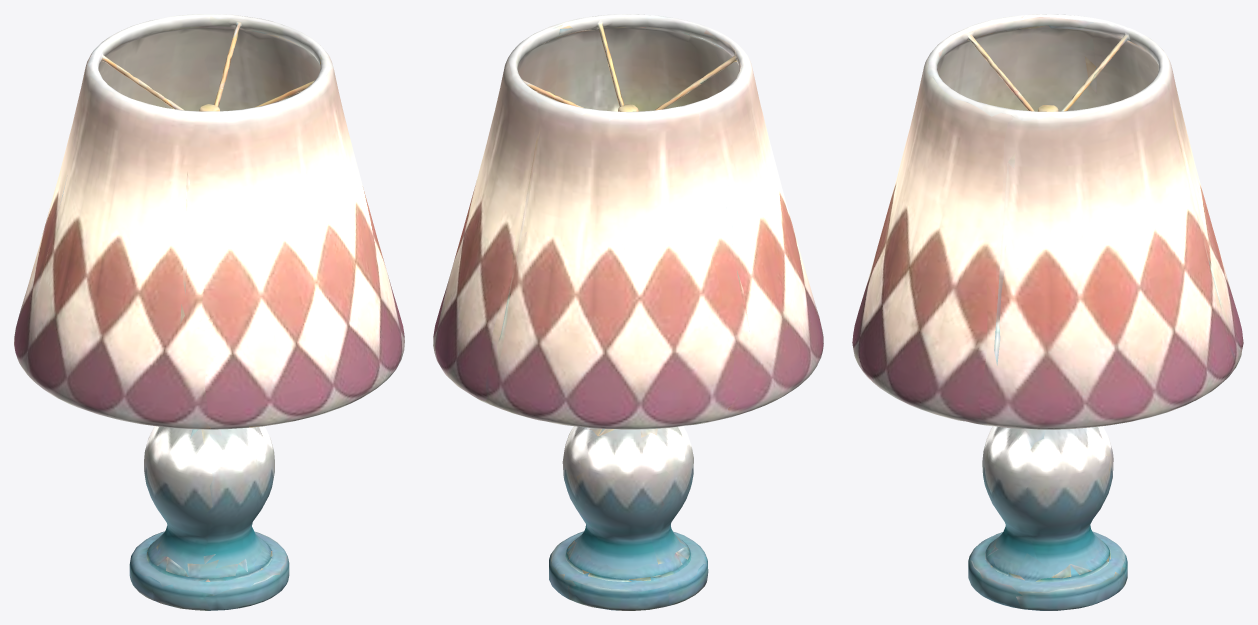
The model's file is Cute_floorlamp.glb.
3 views of the same model, side by side, from view 1: azimuth 30°, elevation 25°; view 2: azimuth 150°, elevation 25°; view 3: azimuth 270°, elevation 25° (orthographic).
Visible parts, largest first — view 1: Mesh_0; view 2: Mesh_0; view 3: Mesh_0.
Boxes of the visible parts, x1,y1,x2,y2 form: Mesh_0: (14,14,404,610); Mesh_0: (433,14,823,610); Mesh_0: (852,14,1243,610).
Size of the model in its own units: 1.31 by 1.91 by 1.31.
Materials: 1 (1 with a texture image).
